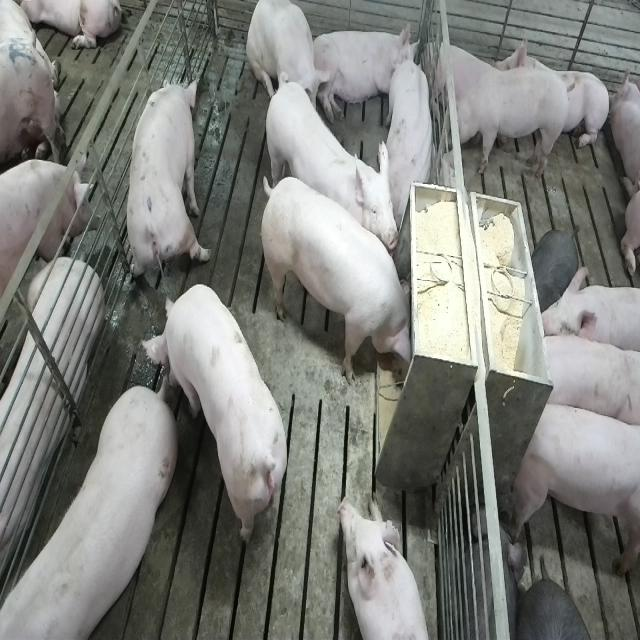Feeding: (264, 173, 420, 391)
Lateral_lying: (0, 211, 102, 591), (311, 21, 416, 126)
Sitting: (246, 1, 331, 131)
Standing: (0, 382, 174, 640), (145, 285, 293, 550), (259, 77, 397, 259), (509, 396, 638, 579), (123, 72, 210, 296), (0, 158, 93, 328), (440, 70, 574, 180), (532, 329, 637, 430), (535, 266, 636, 356)
Sternal_lying: (494, 29, 609, 157), (336, 493, 434, 640)
